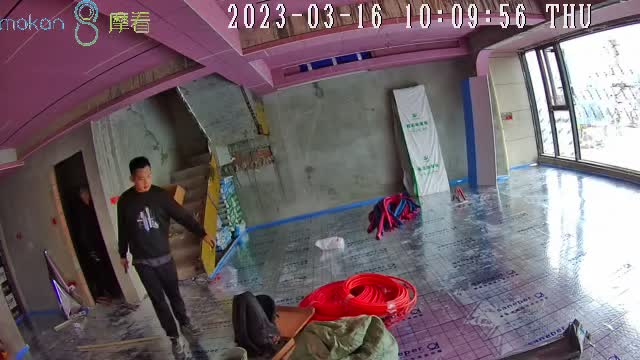people: (117, 157, 216, 353)
window: (519, 21, 640, 176)
